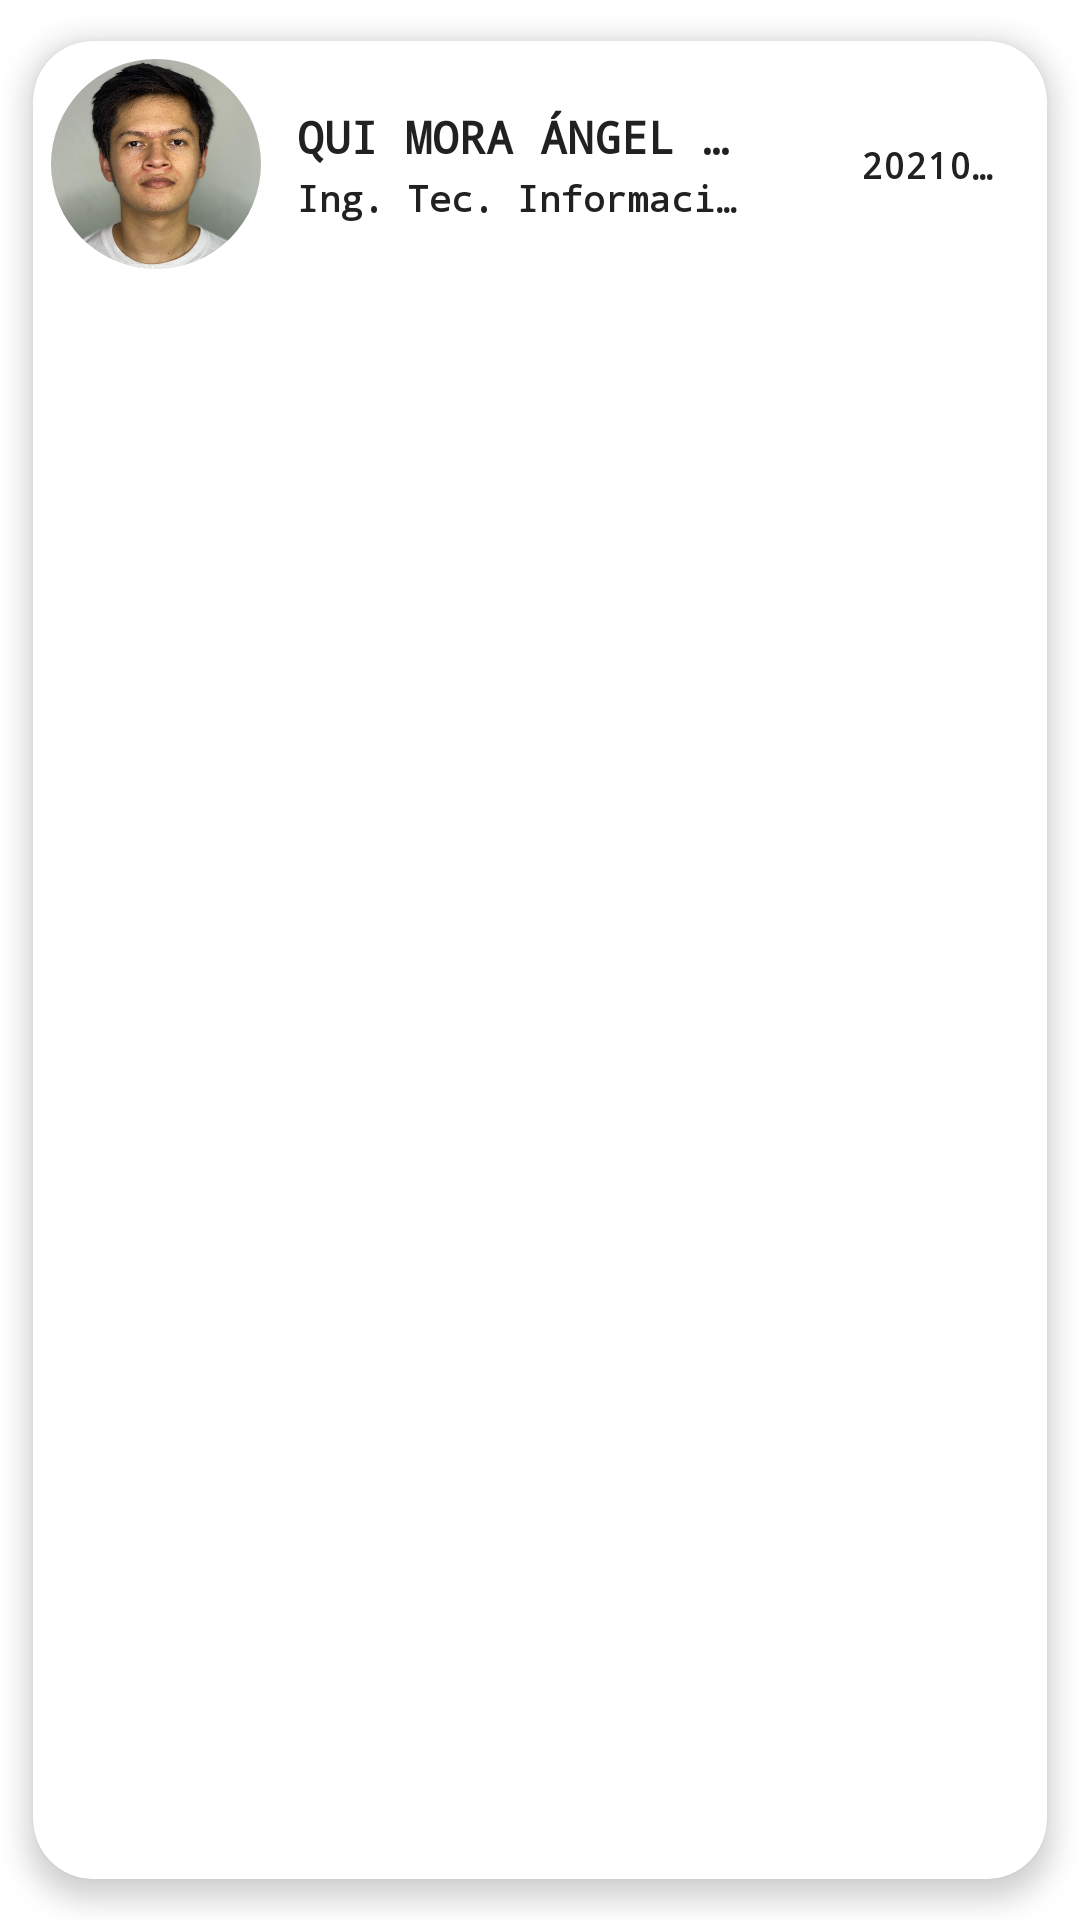

Icons on this 1080 x 1920 Android screen, each with its box as (x1, y1, x2, y2):
alumno: (51, 59, 261, 269)
